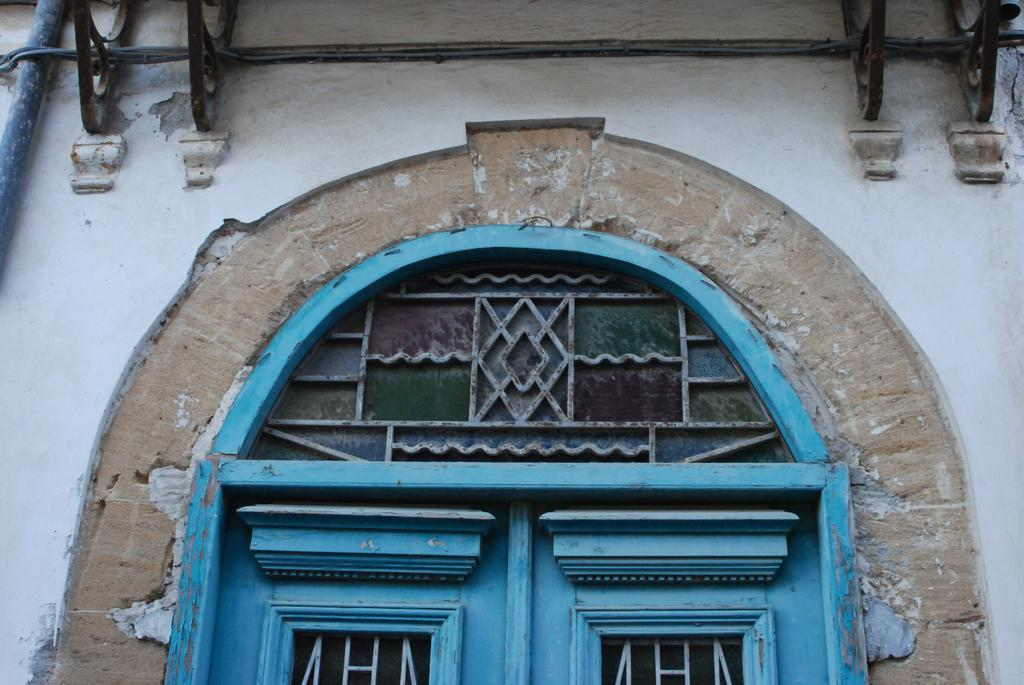door: (528, 511, 818, 685), (237, 508, 500, 685)
